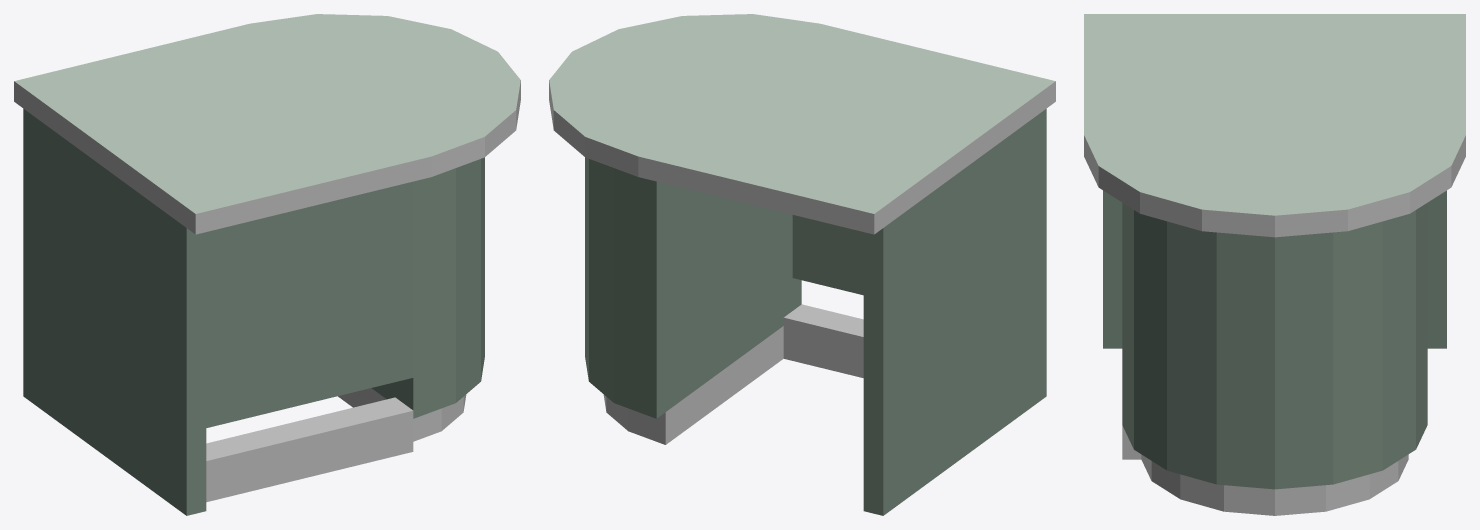
The model's file is desk_round.obj.
3 views of the same model, side by side, from view 1: azimuth 30°, elevation 25°; view 2: azimuth 150°, elevation 25°; view 3: azimuth 270°, elevation 25° (orthographic). The views are drawn at different scales.
Parts seen in each view (by area): view 1: desk_round; view 2: desk_round; view 3: desk_round.
Part boxes in pixels (box(x1,y1,x2,y2)): desk_round: box(14, 14, 520, 515); desk_round: box(549, 14, 1055, 515); desk_round: box(1084, 14, 1465, 515).
Bounding box in the file's own units: 1 × 0.75 × 0.8.
